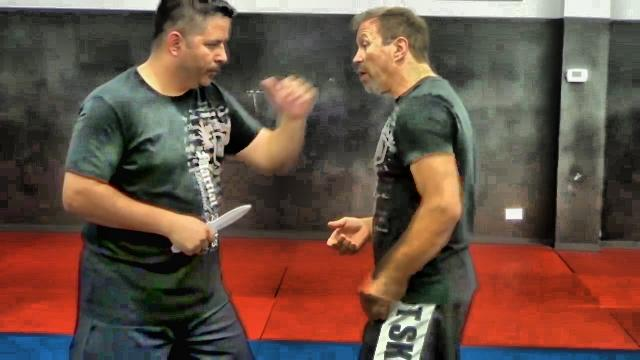knife: (169, 200, 253, 256)
